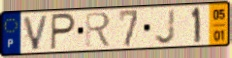1: (189, 6, 203, 46)
7: (118, 8, 140, 49)
J: (153, 8, 177, 46)
P: (49, 12, 77, 52)
R: (84, 11, 113, 49)
V: (21, 13, 51, 52)
